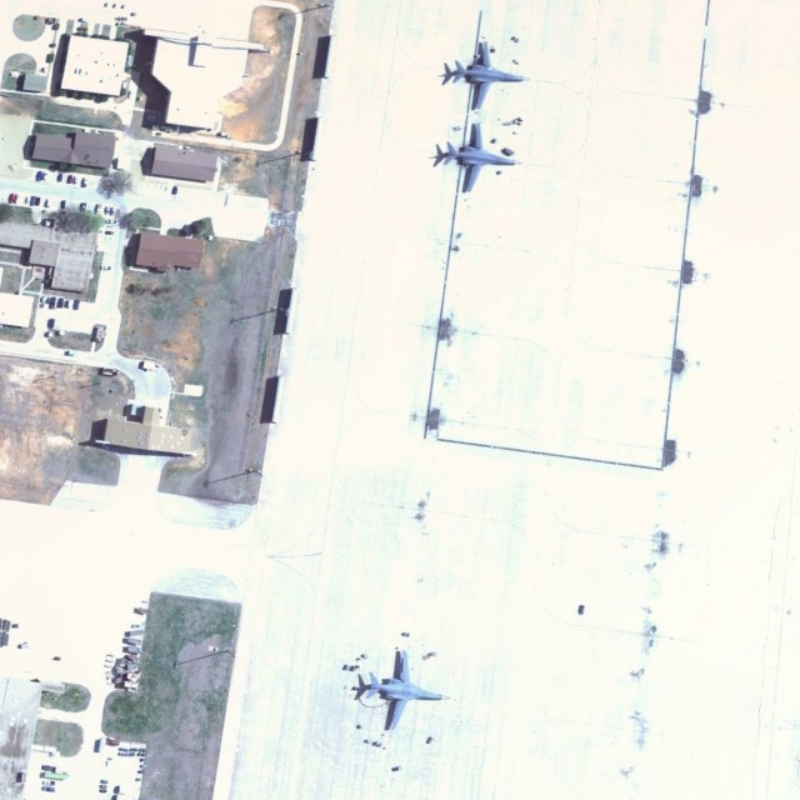A10: (358, 637, 452, 737), (436, 28, 532, 115), (431, 121, 529, 203)
